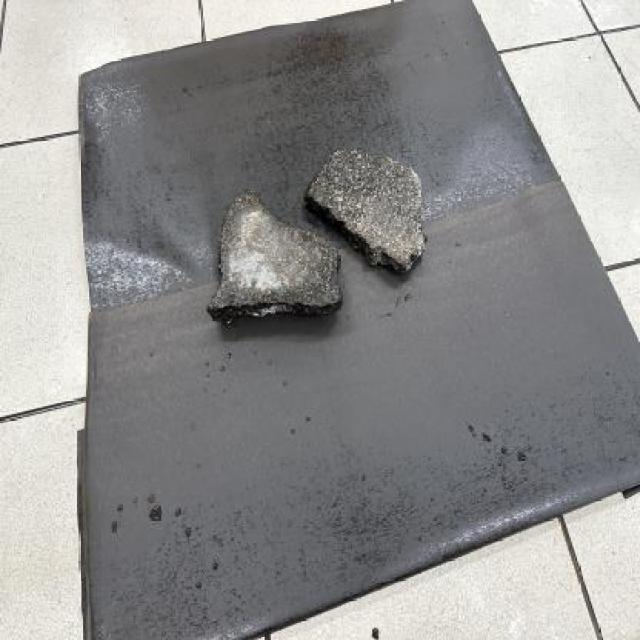Road Debris: (312, 150, 418, 213), (284, 224, 338, 320)
